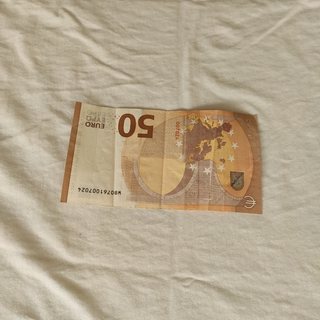50EUROBack: (58, 99, 265, 216)
